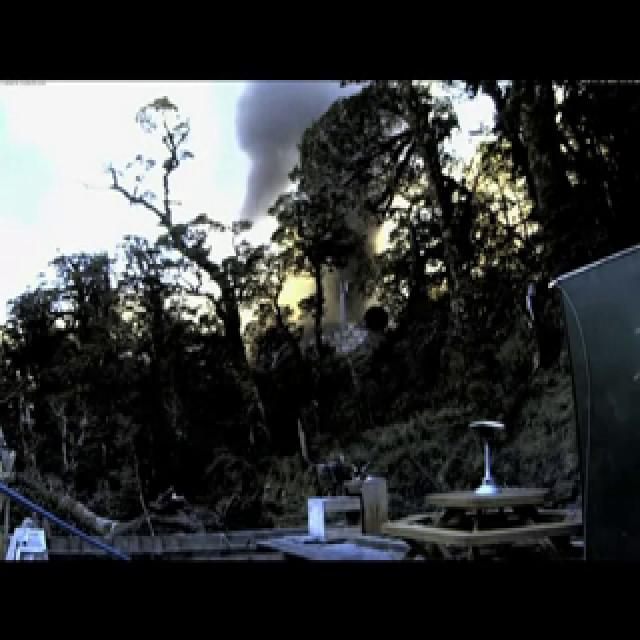explosion: (94, 79, 636, 554)
